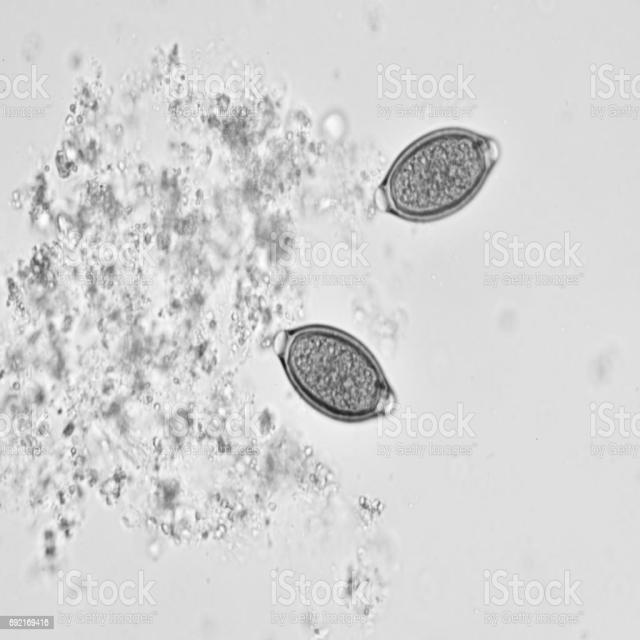Trichuris Trichiura: (366, 120, 502, 232), (264, 317, 398, 423)
